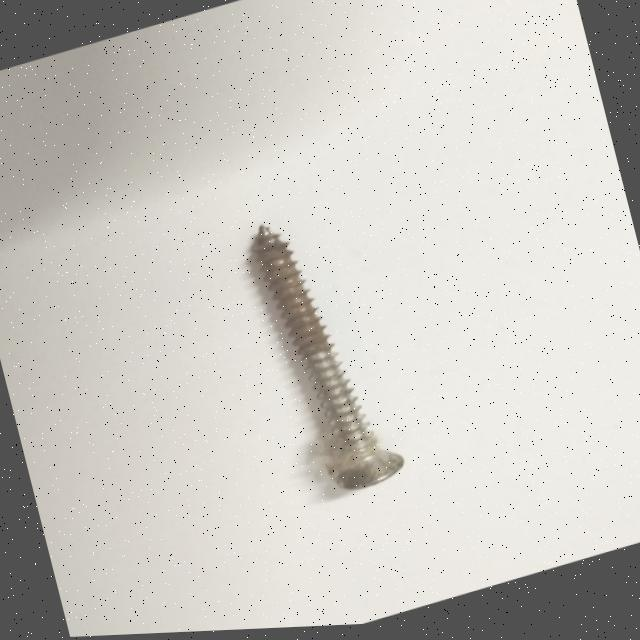corrosion: (254, 228, 328, 361)
